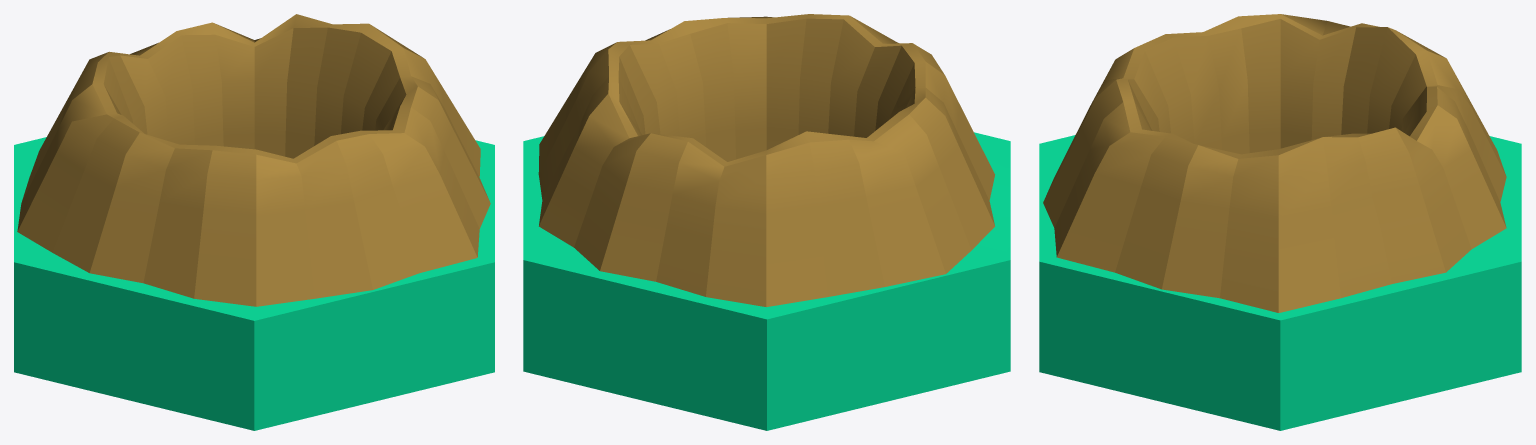
Rendered from Molehill_Tile.fbx.
3 renders of one model, left to right at view 1: azimuth 30°, elevation 25°; view 2: azimuth 150°, elevation 25°; view 3: azimuth 270°, elevation 25°, orthographic.
Parts seen in each view (by area): view 1: pCylinder1; view 2: pCylinder1; view 3: pCylinder1.
Part boxes in pixels (x1,y1,x2,y2): pCylinder1: [14, 14, 494, 430]; pCylinder1: [523, 14, 1010, 430]; pCylinder1: [1039, 14, 1521, 430].
Bounding box in the file's own units: 3.79 × 1.82 × 3.28.
